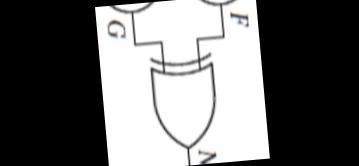xor: (137, 47, 224, 153)
